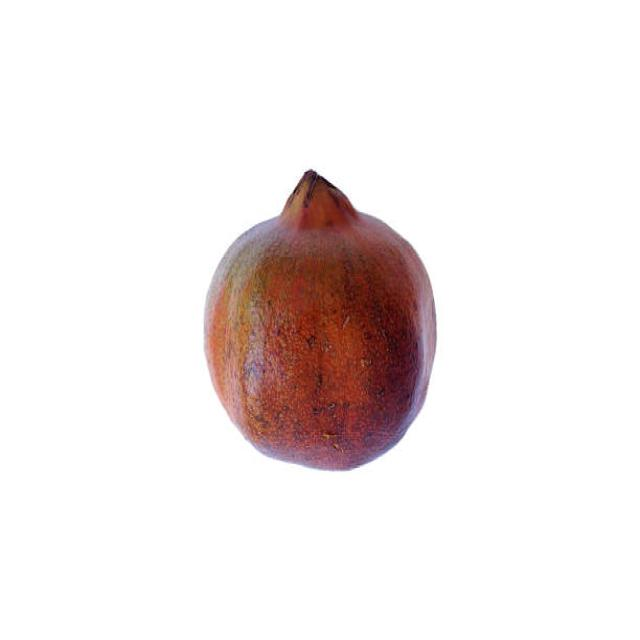overripe: (199, 162, 443, 476)
